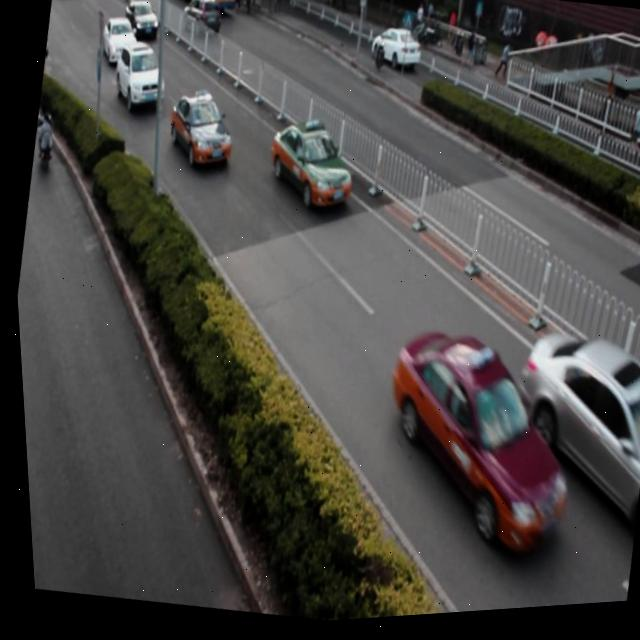car: (357, 319, 586, 574), (488, 323, 640, 544), (259, 113, 357, 220), (162, 87, 236, 171), (108, 39, 172, 117), (364, 24, 425, 84), (96, 15, 141, 69), (177, 0, 225, 44), (119, 0, 162, 48)
van: (159, 0, 239, 24)
